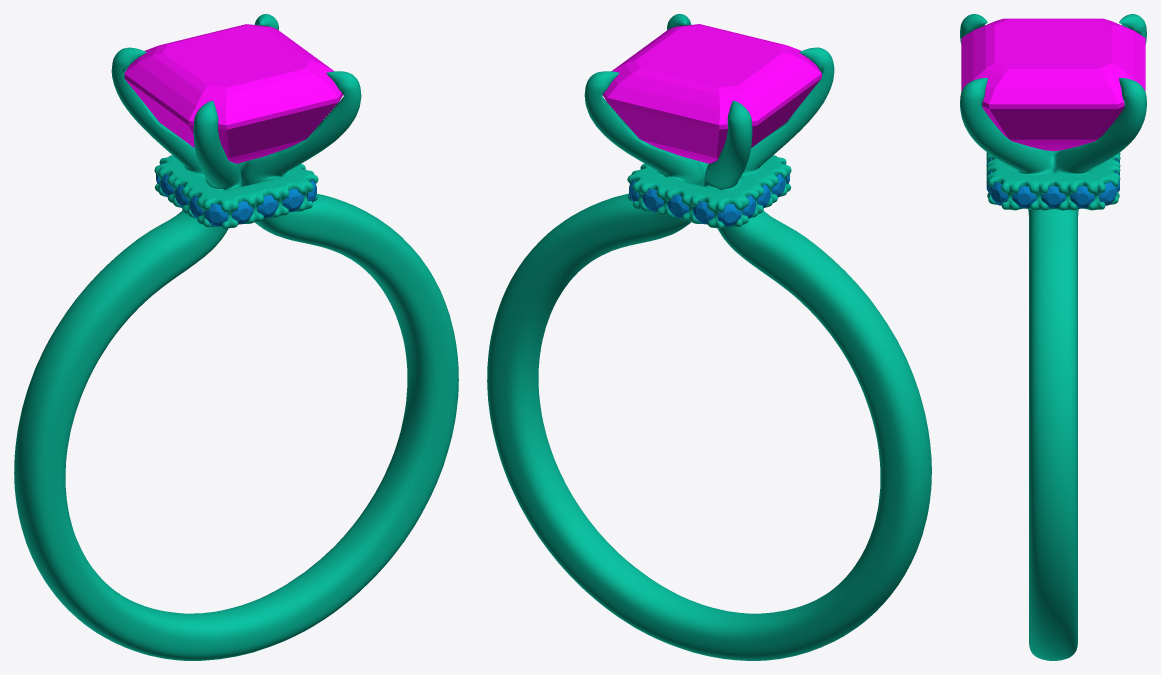
Rendered from BE1D964_AS_200ct_RENDER.glb.
The picture shows the model from 3 angles, left to right: view 1: azimuth 30°, elevation 25°; view 2: azimuth 150°, elevation 25°; view 3: azimuth 270°, elevation 25°; orthographic projection.
Parts seen in each view (by area): view 1: Metal 01, CS_Diamond_Asscher; view 2: Metal 01, CS_Diamond_Asscher; view 3: Metal 01, CS_Diamond_Asscher, Diamond_Round_Gem_HD.003, Diamond_Round_Gem_HD.012, Diamond_Round_Gem_HD.004.
Part boxes in pixels (bbox=[...]): Metal 01: bbox=[14, 14, 458, 660]; CS_Diamond_Asscher: bbox=[124, 24, 343, 163]; Metal 01: bbox=[487, 14, 931, 660]; CS_Diamond_Asscher: bbox=[602, 24, 821, 163]; Metal 01: bbox=[960, 14, 1146, 660]; CS_Diamond_Asscher: bbox=[961, 18, 1145, 151]; Diamond_Round_Gem_HD.003: bbox=[1012, 186, 1036, 208]; Diamond_Round_Gem_HD.012: bbox=[1070, 186, 1094, 208]; Diamond_Round_Gem_HD.004: bbox=[1041, 186, 1065, 208].
Size of the model in its own units: 20.38 by 26.65 by 7.61.
